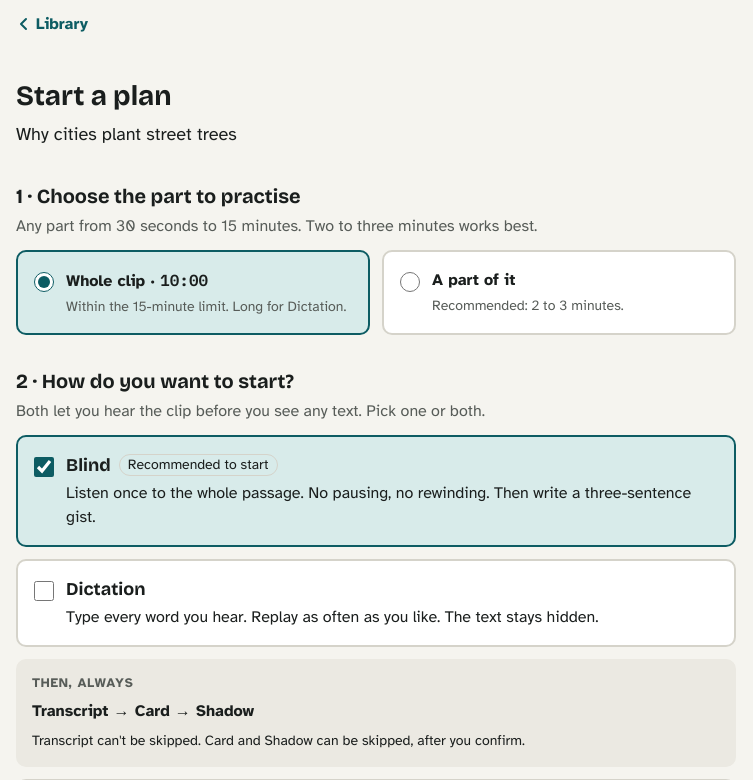
Scenario: without the peaks, the part can still be chosen
Click the radio button labelled "A part of it Recommended: 2 to 3 minutes." at (410, 282), box x1=400 y1=272 x2=420 y2=292
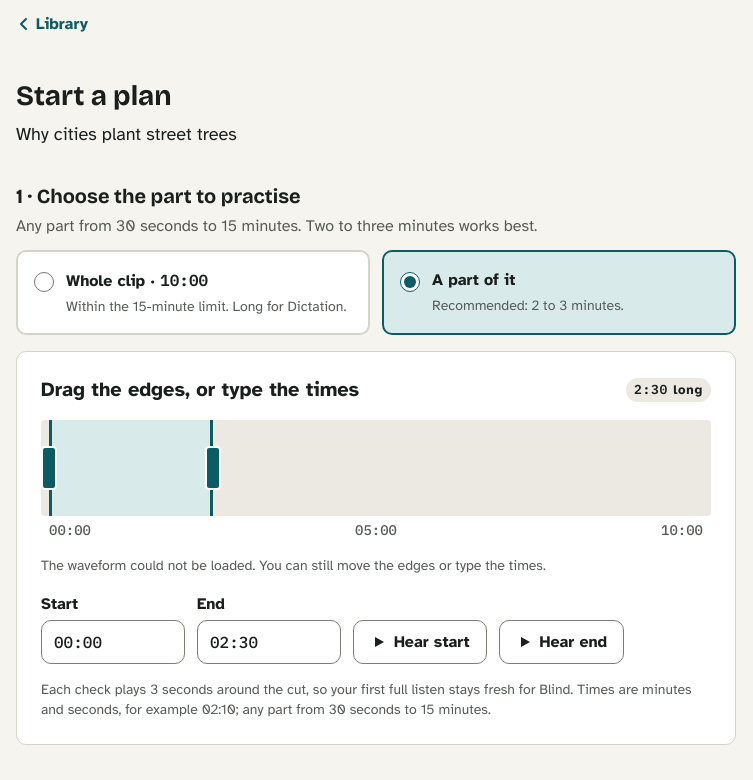
Result: the text "The waveform could not be loaded. You can still move the edges or type the times." is shown at x1=41 y1=557 x2=546 y2=574
Press ArrowRight in the slider named "Passage end", box x1=204 y1=446 x2=220 y2=490
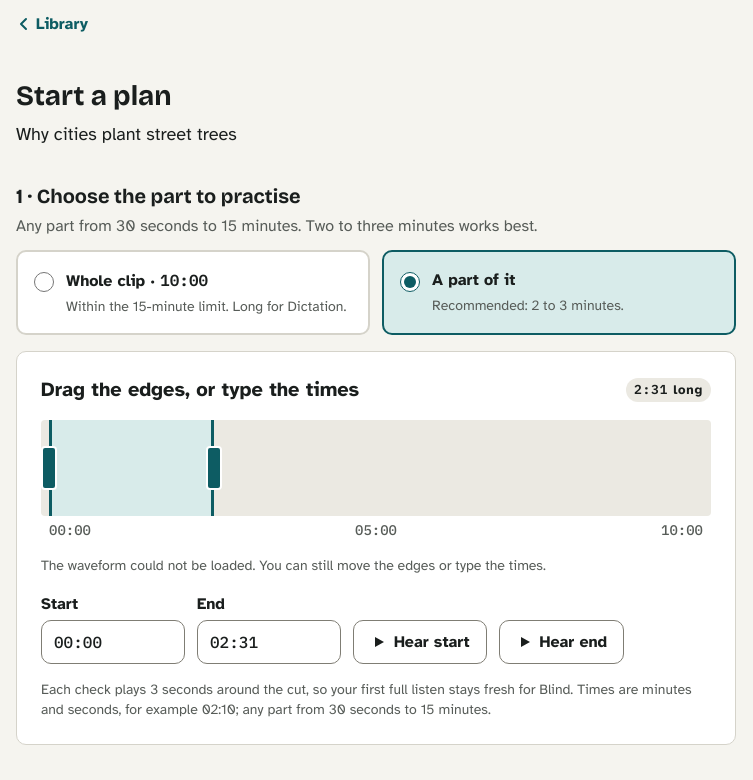
Result: the field labelled "End" holds "02:31" at x1=197 y1=620 x2=341 y2=664
